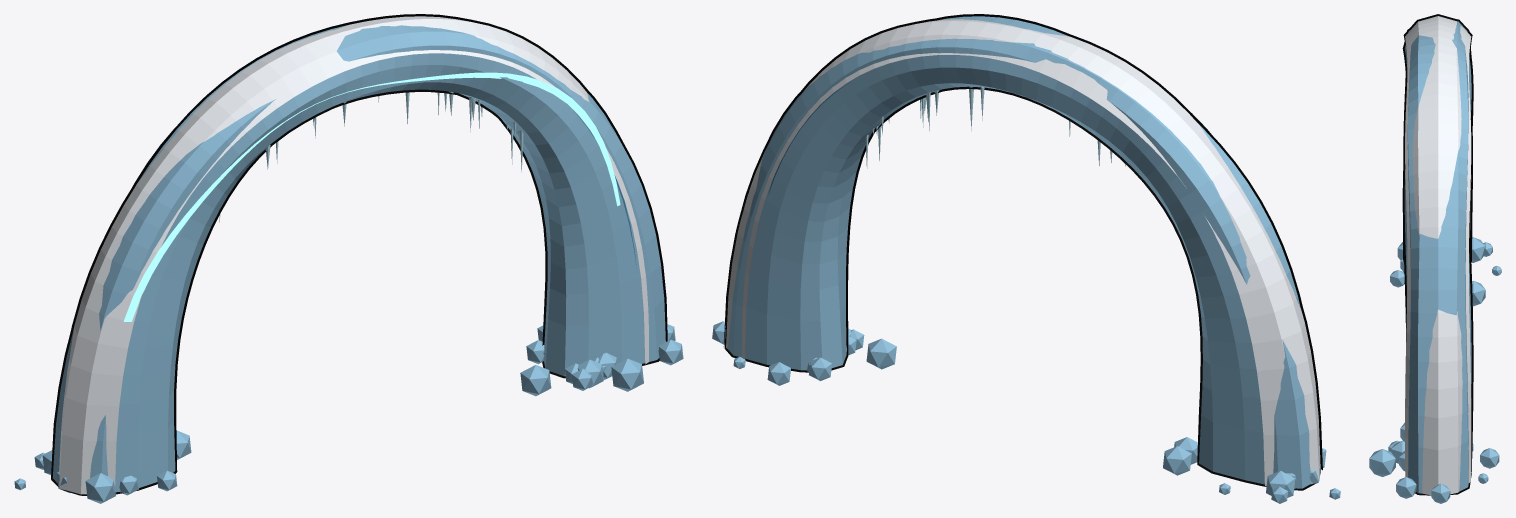
Rendered from Tundra_IceArch.glb.
3 views of the same model, side by side, from view 1: azimuth 30°, elevation 25°; view 2: azimuth 150°, elevation 25°; view 3: azimuth 270°, elevation 25° (orthographic). The views are drawn at different scales.
Parts seen in each view (by area): view 1: IceArch_Body, IceArch_Cap, IceArch_Rubble, IceArch_OutlineHull, IceArch_GlowVein, IceArch_Icicles; view 2: IceArch_Body, IceArch_Cap, IceArch_OutlineHull, IceArch_Rubble, IceArch_Icicles; view 3: IceArch_Cap, IceArch_Body, IceArch_Rubble, IceArch_OutlineHull.
Boxes of the visible parts, x1,y1,x2,y2 form: IceArch_Body: (52, 25, 665, 492); IceArch_Cap: (59, 16, 648, 494); IceArch_Rubble: (14, 324, 683, 503); IceArch_OutlineHull: (51, 14, 667, 495); IceArch_GlowVein: (123, 72, 620, 321); IceArch_Icicles: (219, 91, 523, 222); IceArch_Body: (727, 16, 1311, 488); IceArch_Cap: (726, 19, 1320, 486); IceArch_OutlineHull: (723, 14, 1322, 490); IceArch_Rubble: (712, 321, 1340, 503); IceArch_Icicles: (865, 86, 1125, 168); IceArch_Cap: (1405, 16, 1471, 495); IceArch_Body: (1404, 21, 1471, 493); IceArch_Rubble: (1369, 237, 1501, 503); IceArch_OutlineHull: (1402, 14, 1473, 495).
Bounding box in the file's own units: 24.01 × 14.14 × 5.01.
